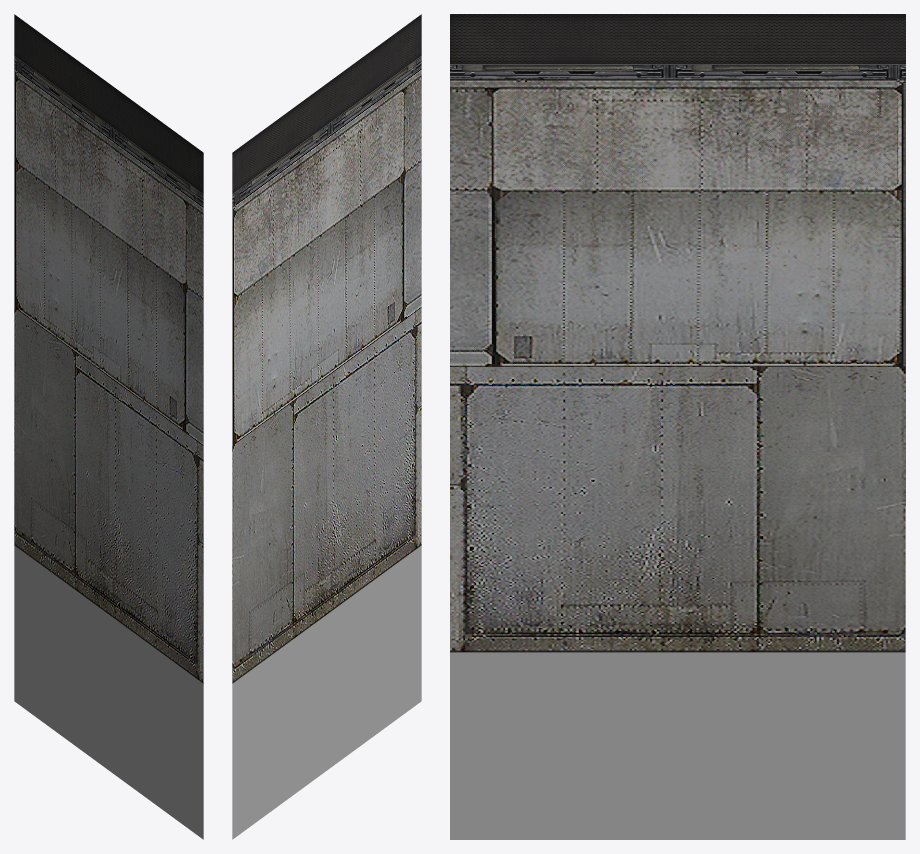
File: Wall_A_Mid4mts_01.fbx
3 views of the same model, side by side, from view 1: azimuth 30°, elevation 25°; view 2: azimuth 150°, elevation 25°; view 3: azimuth 270°, elevation 25° (orthographic). The views are drawn at different scales.
Visible parts, largest first — view 1: Wall_A_Mid4mts_01; view 2: Wall_A_Mid4mts_01; view 3: Wall_A_Mid4mts_01.
Part boxes in pixels (x1,y1,x2,y2): Wall_A_Mid4mts_01: [14, 14, 203, 839]; Wall_A_Mid4mts_01: [232, 14, 421, 839]; Wall_A_Mid4mts_01: [450, 14, 905, 839].
Bounding box in the file's own units: 3.64e-12 × 400 × 200.
